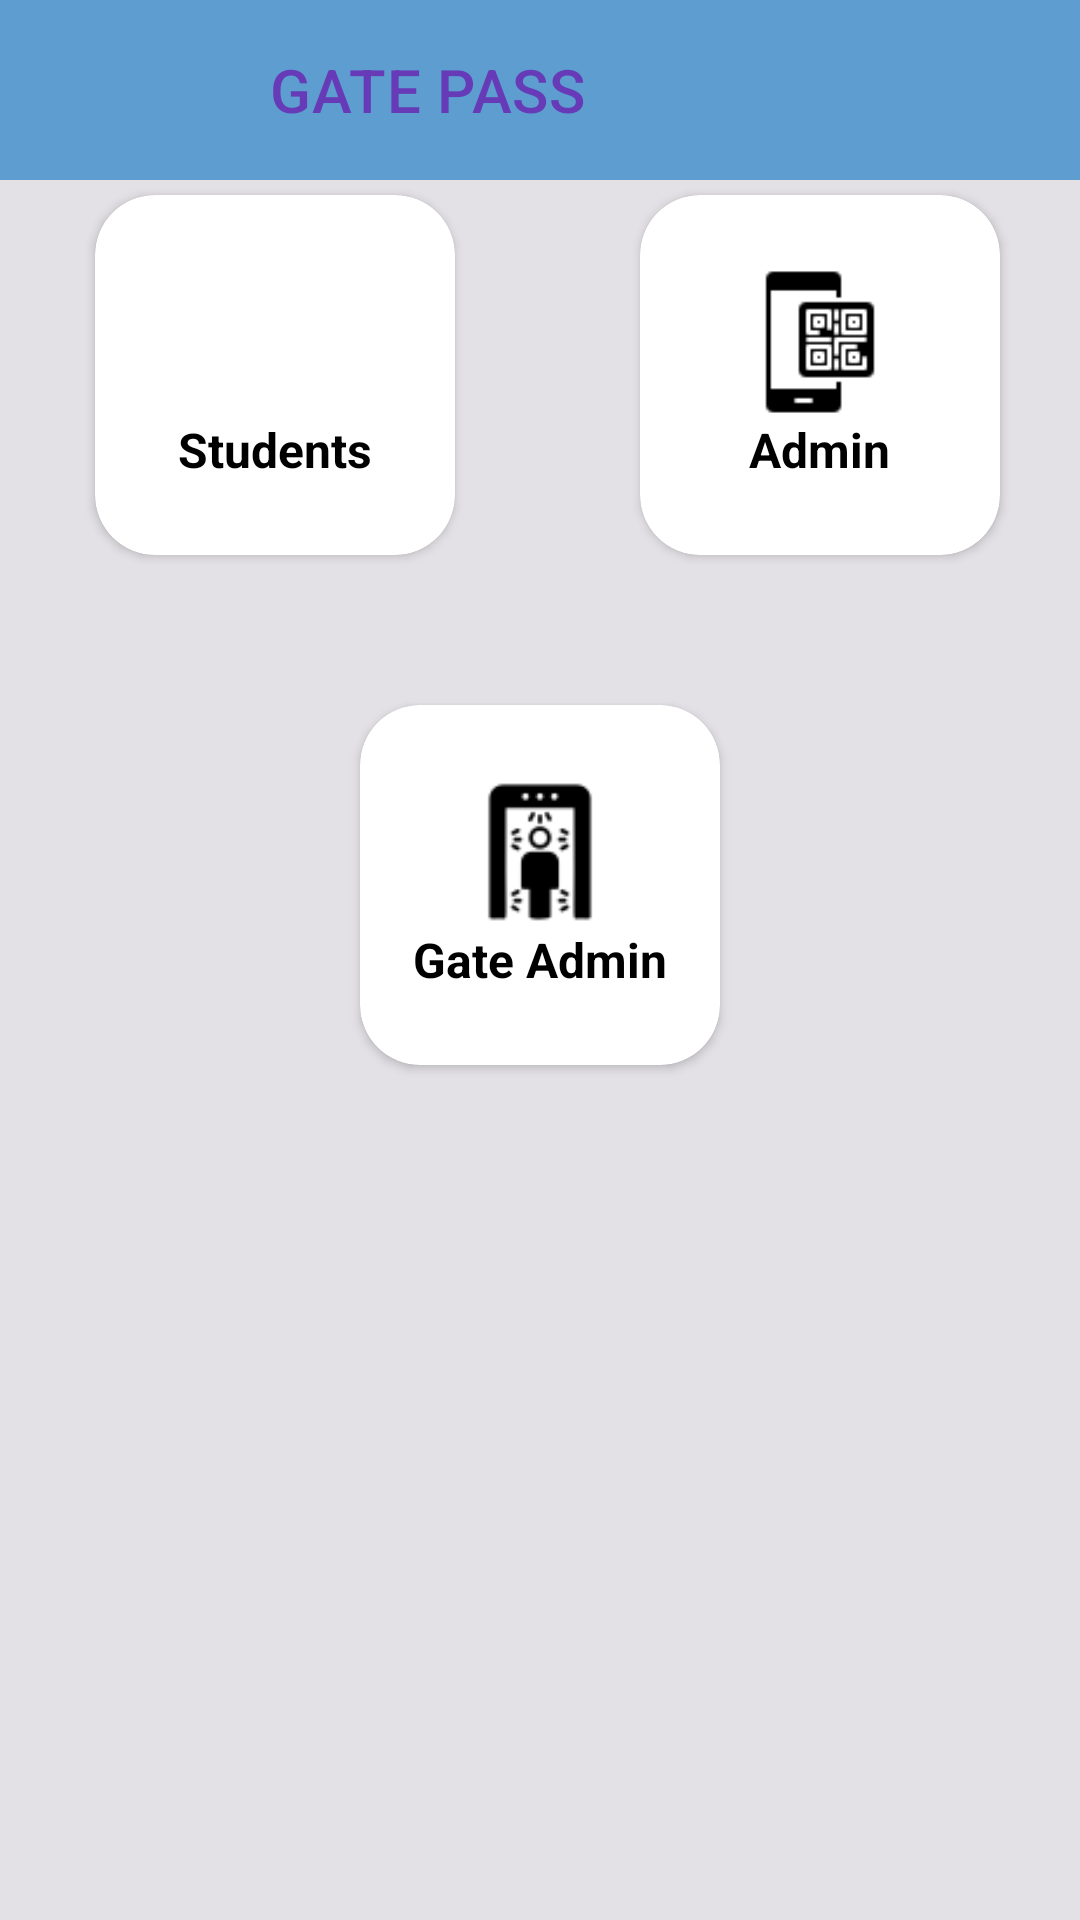

Screen size 1080w x 1920h. Icon name, then its center in pixels as [x,y]:
gatestaf: [540,852]
